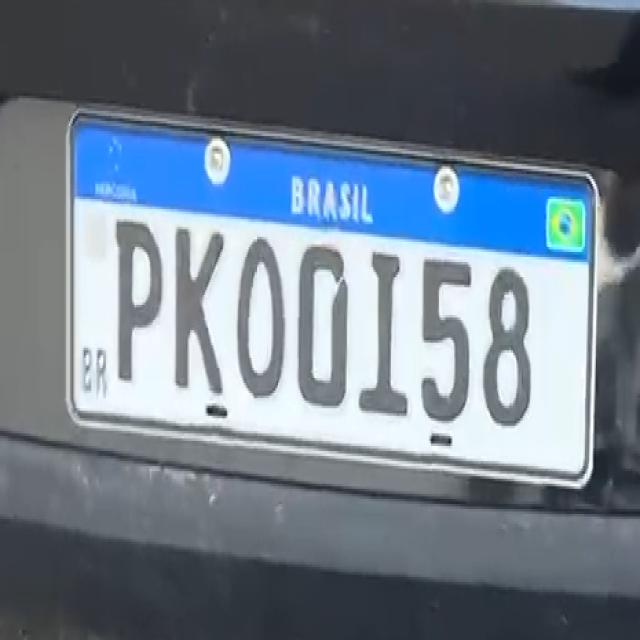Placa_mercosul_carro: (71, 116, 592, 482)
